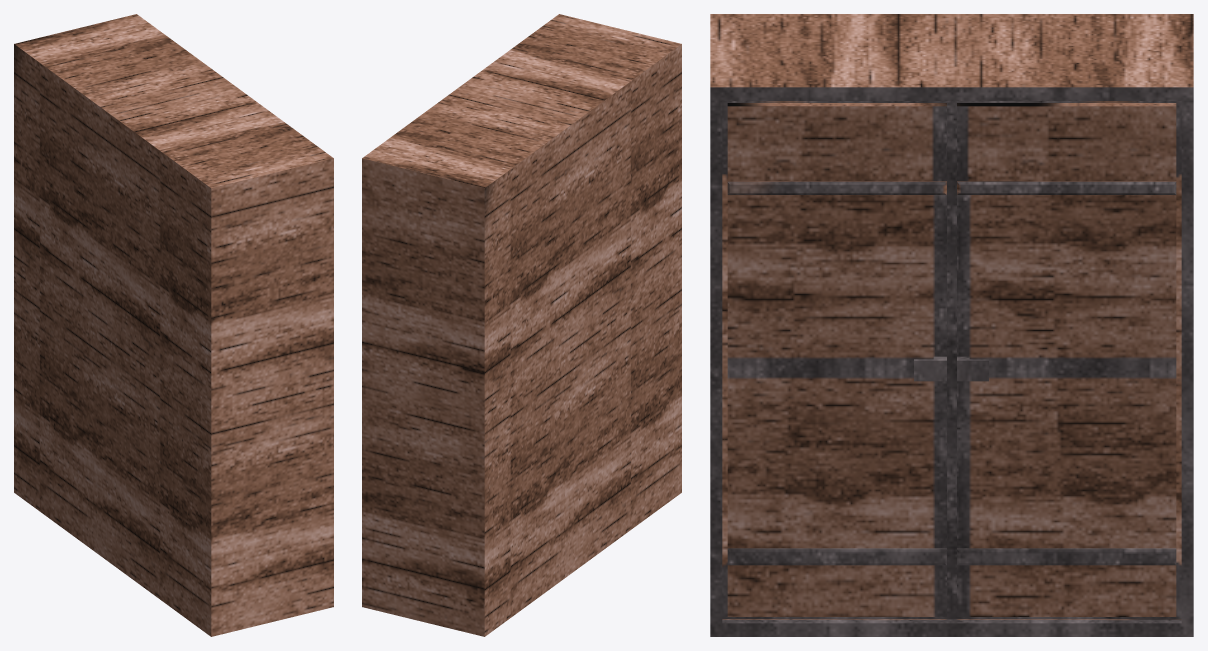
The model's file is wardrobe.fbx.
The picture shows the model from 3 angles, left to right: view 1: azimuth 30°, elevation 25°; view 2: azimuth 150°, elevation 25°; view 3: azimuth 270°, elevation 25°; orthographic projection. The views are drawn at different scales.
Visible parts, largest first — view 1: wardrobe; view 2: wardrobe; view 3: wardrobe.
Part boxes in pixels (left/top/right/bottom): wardrobe: left=14, top=14, right=333, bottom=636; wardrobe: left=362, top=14, right=681, bottom=636; wardrobe: left=710, top=14, right=1193, bottom=636.
Size of the model in its own units: 47.95 by 160 by 128.
